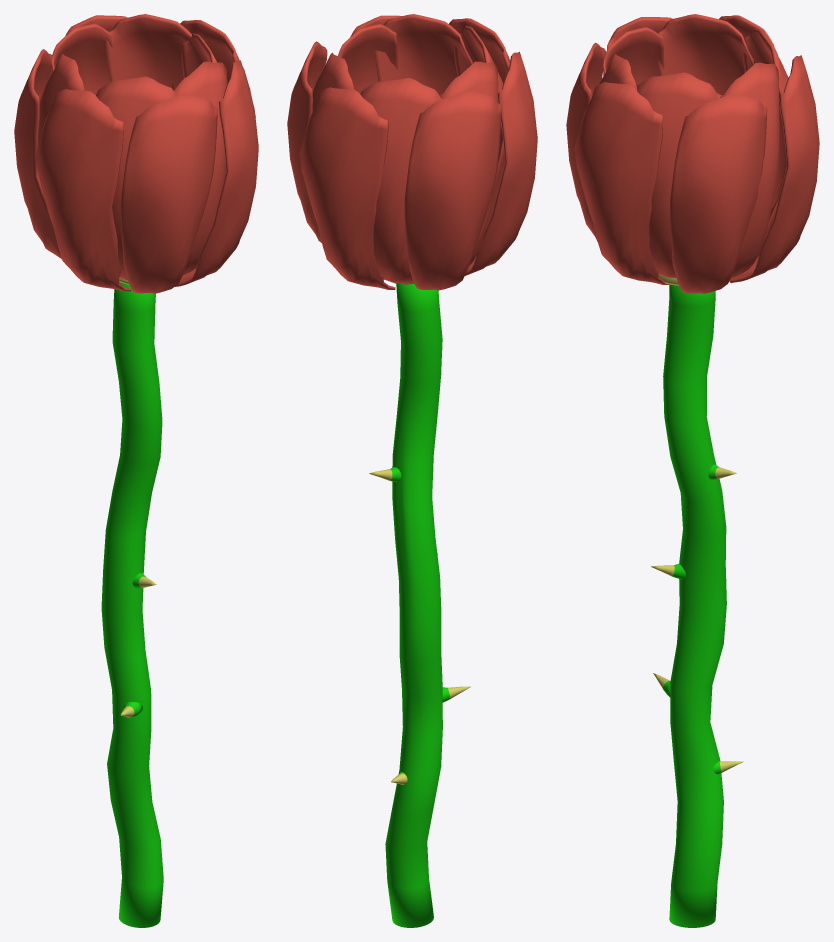
File: Flower_Red.fbx
The picture shows the model from 3 angles, left to right: view 1: azimuth 30°, elevation 25°; view 2: azimuth 150°, elevation 25°; view 3: azimuth 270°, elevation 25°; orthographic projection.
Visible parts, largest first — view 1: Rose; view 2: Rose; view 3: Rose.
Boxes of the visible parts, bbox=[...] form: Rose: bbox=[14, 14, 258, 927]; Rose: bbox=[287, 14, 537, 927]; Rose: bbox=[566, 14, 819, 927].
Size of the model in its own units: 688 by 2658 by 698.
